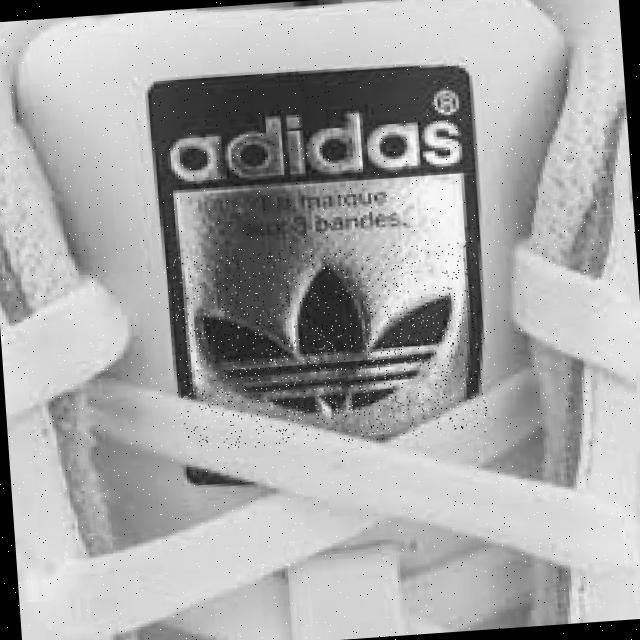Adidas: (171, 236, 488, 453)
